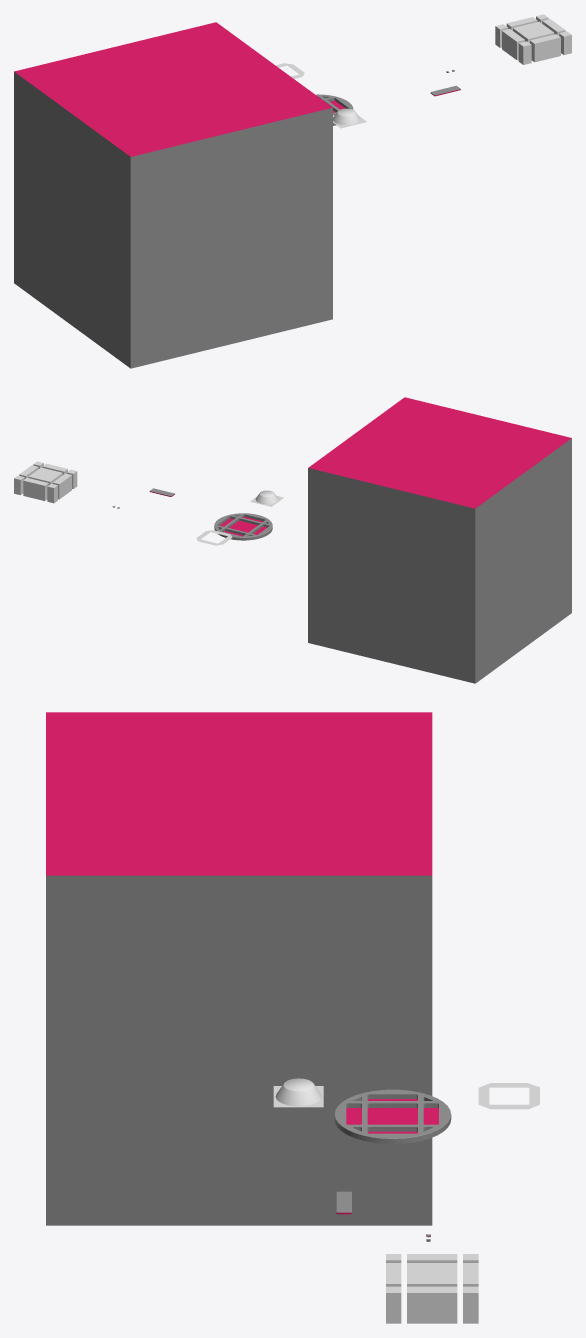
Rendered from ProbeCard.FBX.
3 renders of one model, top to bottom at view 1: azimuth 30°, elevation 25°; view 2: azimuth 150°, elevation 25°; view 3: azimuth 270°, elevation 25°, orthographic. The views are drawn at different scales.
Parts seen in each view (by area): view 1: PBCBox, Box002, Cover; view 2: PBCBox, Box002, ProbeCard_Base; view 3: PBCBox, Box002, ProbeCard_Base, Cover.
Part boxes in pixels (x1=…): PBCBox: x1=14, y1=22, x2=332, y2=368; Box002: x1=495, y1=14, x2=571, y2=64; Cover: x1=333, y1=108, x2=366, y2=128; PBCBox: x1=308, y1=397, x2=571, y2=683; Box002: x1=14, y1=461, x2=77, y2=503; ProbeCard_Base: x1=214, y1=513, x2=272, y2=540; PBCBox: x1=46, y1=712, x2=432, y2=1225; Box002: x1=386, y1=1254, x2=478, y2=1323; ProbeCard_Base: x1=334, y1=1089, x2=451, y2=1144; Cover: x1=273, y1=1078, x2=323, y2=1107.
Size of the model in its own units: 269 by 128 by 100.
